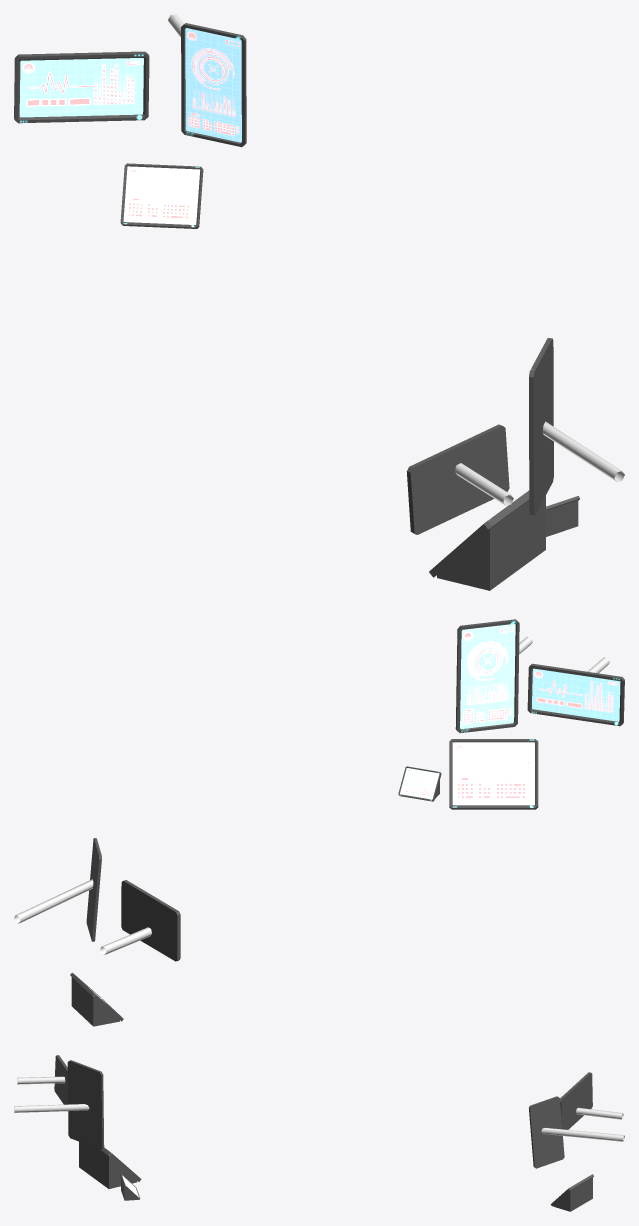
The model's file is Mesh_Zats_Monitors.fbx.
3 views of the same model, one above another, from view 1: azimuth 30°, elevation 25°; view 2: azimuth 150°, elevation 25°; view 3: azimuth 270°, elevation 25° (orthographic). The views are drawn at different scales.
Parts seen in each view (by area): view 1: Mesh_Zats_Monitors_01, Mesh_Zats_Monitors_08, Mesh_Zats_Monitors_03, Mesh_Zats_Monitors_02, Mesh_Zats_Monitors_07, Mesh_Zats_Monitors_05, Mesh_Zats_Monitors_04, Mesh_Zats_Monitors_11, Mesh_Zats_Monitors_10; view 2: Mesh_Zats_Monitors_05, Mesh_Zats_Monitors_02, Mesh_Zats_Monitors_03, Mesh_Zats_Monitors_01, Mesh_Zats_Monitors_07, Mesh_Zats_Monitors_11, Mesh_Zats_Monitors_08, Mesh_Zats_Monitors_09; view 3: Mesh_Zats_Monitors_05, Mesh_Zats_Monitors_08, Mesh_Zats_Monitors_02, Mesh_Zats_Monitors_01, Mesh_Zats_Monitors_07, Mesh_Zats_Monitors_09, Mesh_Zats_Monitors_04, Mesh_Zats_Monitors_03, Mesh_Zats_Monitors_10, Mesh_Zats_Monitors_06, Mesh_Zats_Monitors_11.
Part boxes in pixels (x1,y1,x2,y2): Mesh_Zats_Monitors_01: [14, 51, 149, 123]; Mesh_Zats_Monitors_08: [181, 23, 246, 147]; Mesh_Zats_Monitors_03: [406, 424, 509, 534]; Mesh_Zats_Monitors_02: [429, 490, 545, 590]; Mesh_Zats_Monitors_07: [120, 163, 203, 228]; Mesh_Zats_Monitors_05: [529, 338, 553, 515]; Mesh_Zats_Monitors_04: [542, 421, 624, 482]; Mesh_Zats_Monitors_11: [546, 496, 579, 536]; Mesh_Zats_Monitors_10: [454, 463, 513, 505]; Mesh_Zats_Monitors_05: [455, 619, 519, 733]; Mesh_Zats_Monitors_02: [449, 739, 538, 809]; Mesh_Zats_Monitors_03: [527, 663, 624, 726]; Mesh_Zats_Monitors_01: [121, 880, 180, 961]; Mesh_Zats_Monitors_07: [70, 972, 123, 1026]; Mesh_Zats_Monitors_11: [398, 766, 441, 801]; Mesh_Zats_Monitors_08: [86, 838, 101, 941]; Mesh_Zats_Monitors_09: [14, 879, 93, 923]; Mesh_Zats_Monitors_05: [67, 1060, 104, 1149]; Mesh_Zats_Monitors_08: [529, 1096, 564, 1168]; Mesh_Zats_Monitors_02: [79, 1141, 141, 1188]; Mesh_Zats_Monitors_01: [560, 1072, 592, 1129]; Mesh_Zats_Monitors_07: [550, 1174, 593, 1211]; Mesh_Zats_Monitors_09: [541, 1127, 624, 1141]; Mesh_Zats_Monitors_04: [14, 1104, 89, 1112]; Mesh_Zats_Monitors_03: [54, 1055, 67, 1104]; Mesh_Zats_Monitors_10: [17, 1076, 65, 1084]; Mesh_Zats_Monitors_06: [576, 1107, 623, 1119]; Mesh_Zats_Monitors_11: [120, 1174, 140, 1200].
Size of the model in its own units: 32.62 by 22.46 by 107.
